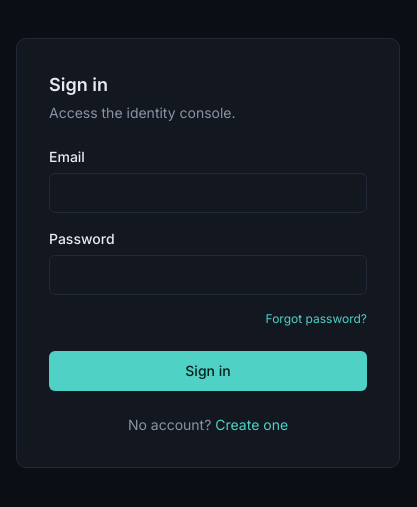
Scenario: LoginPage › shows validation errors for empty submit
Click the button "Sign in". click: {"x": 208, "y": 371}
box: [49,351,367,391]
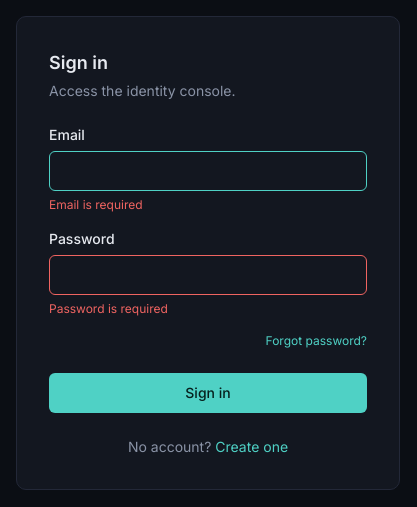
Check: the text "Email is required" is shown, box [49,197,143,212]
Check: the text "Password is required" is shown, box [49,301,168,316]
